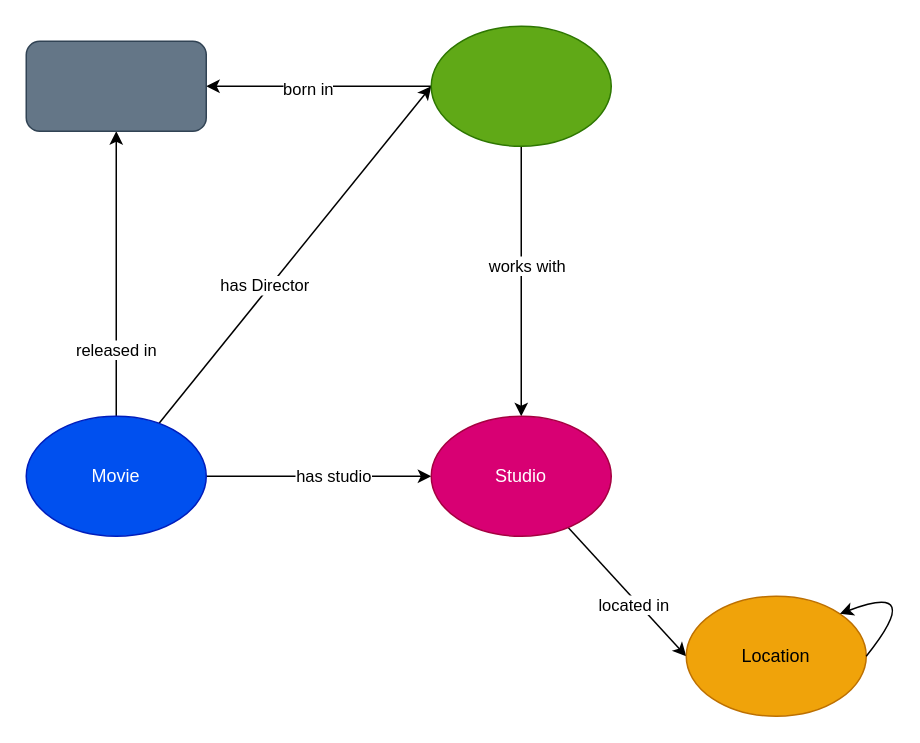
This 920x743 diagram has some shape labels left out. Here are the shapes that lost their labels. From the top down, the centre of each, then its label:
At point (115, 85): "Year".
At point (520, 85): "Director".
